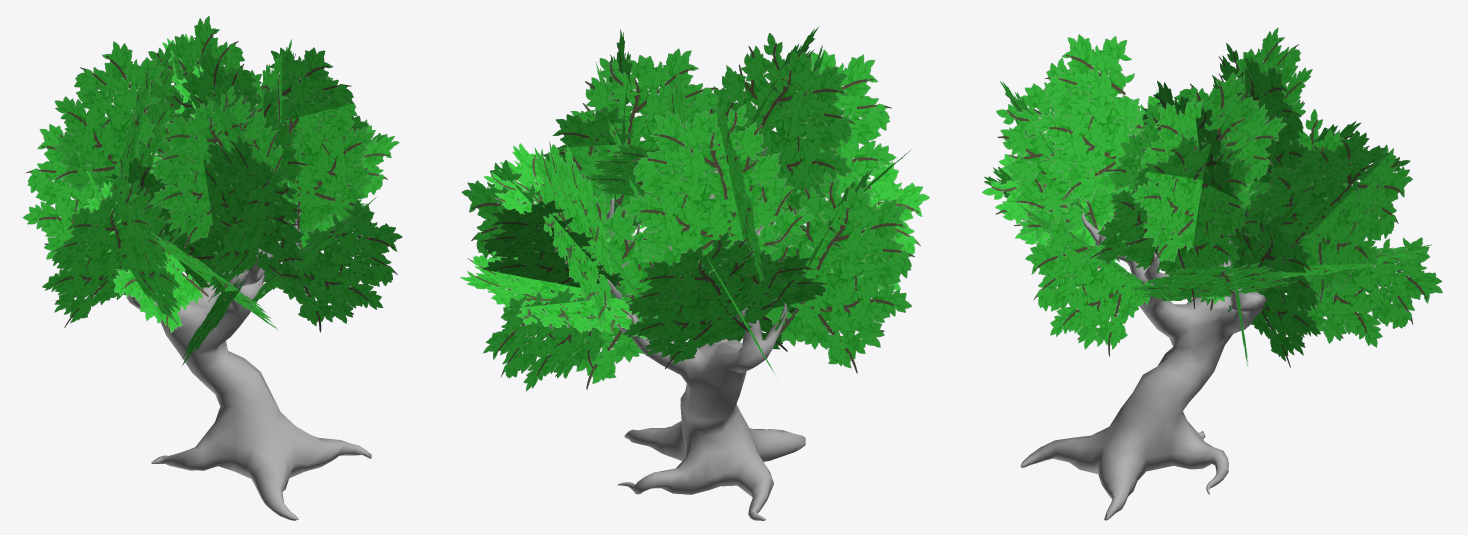
Rendered from trytree01.fbx.
3 renders of one model, left to right at view 1: azimuth 30°, elevation 25°; view 2: azimuth 150°, elevation 25°; view 3: azimuth 270°, elevation 25°, orthographic. The views are drawn at different scales.
Parts seen in each view (by area): view 1: Environment_Tree_001_Trunk_Mesh, Environment_Tree_001_Branch_010, Environment_Tree_001_Branch_005, Environment_Tree_001_Branch_006, Environment_Tree_001_Branch_002, Environment_Tree_001_Branch_007, Environment_Tree_001_Branch_015, Environment_Tree_001_Branch_012, Environment_Tree_001_Branch_013, Environment_Tree_001_Branch_014, Environment_Tree_001_Branch_011, Environment_Tree_001_Branch_009 (+2 smaller); view 2: Environment_Tree_001_Branch_010, Environment_Tree_001_Branch_005, Environment_Tree_001_Trunk_Mesh, Environment_Tree_001_Branch_007, Environment_Tree_001_Branch_011, Environment_Tree_001_Branch_009, Environment_Tree_001_Branch_004, Environment_Tree_001_Branch_014, Environment_Tree_001_Branch_006, Environment_Tree_001_Branch_008, Environment_Tree_001_Branch_003, Environment_Tree_001_Branch_015 (+3 smaller); view 3: Environment_Tree_001_Trunk_Mesh, Environment_Tree_001_Branch_009, Environment_Tree_001_Branch_007, Environment_Tree_001_Branch_015, Environment_Tree_001_Branch_002, Environment_Tree_001_Branch_014, Environment_Tree_001_Branch_004, Environment_Tree_001_Branch_006, Environment_Tree_001_Branch_013, Environment_Tree_001_Branch_008, Environment_Tree_001_Branch_010, Environment_Tree_001_Branch_003 (+3 smaller).
Boxes of the visible parts, x1,y1,x2,y2 form: Environment_Tree_001_Trunk_Mesh: (126,212,371,520); Environment_Tree_001_Branch_010: (54,40,174,200); Environment_Tree_001_Branch_005: (42,179,182,327); Environment_Tree_001_Branch_006: (200,135,307,302); Environment_Tree_001_Branch_002: (237,197,402,332); Environment_Tree_001_Branch_007: (148,85,296,248); Environment_Tree_001_Branch_015: (252,74,374,235); Environment_Tree_001_Branch_012: (84,157,235,338); Environment_Tree_001_Branch_013: (165,47,307,196); Environment_Tree_001_Branch_014: (252,39,368,187); Environment_Tree_001_Branch_011: (22,122,119,271); Environment_Tree_001_Branch_009: (145,16,261,170); Environment_Tree_001_Branch_010: (622,104,813,282); Environment_Tree_001_Branch_005: (765,170,914,373); Environment_Tree_001_Trunk_Mesh: (606,170,805,520); Environment_Tree_001_Branch_007: (710,27,854,213); Environment_Tree_001_Branch_011: (622,232,805,373); Environment_Tree_001_Branch_009: (481,141,623,328); Environment_Tree_001_Branch_004: (460,250,646,391); Environment_Tree_001_Branch_014: (560,29,722,219); Environment_Tree_001_Branch_006: (774,45,896,222); Environment_Tree_001_Branch_008: (530,192,671,389); Environment_Tree_001_Branch_003: (461,143,648,302); Environment_Tree_001_Branch_015: (534,62,664,232); Environment_Tree_001_Trunk_Mesh: (1020,190,1299,520); Environment_Tree_001_Branch_009: (1244,130,1412,302); Environment_Tree_001_Branch_007: (1032,34,1143,202); Environment_Tree_001_Branch_015: (1089,136,1250,308); Environment_Tree_001_Branch_002: (1017,204,1173,356); Environment_Tree_001_Branch_014: (1131,81,1249,264); Environment_Tree_001_Branch_004: (1271,237,1442,347); Environment_Tree_001_Branch_006: (996,58,1143,241); Environment_Tree_001_Branch_013: (1102,72,1287,222); Environment_Tree_001_Branch_008: (1222,198,1320,367); Environment_Tree_001_Branch_010: (1212,27,1312,189); Environment_Tree_001_Branch_003: (1131,258,1298,366).
Bounding box in the file's own units: 1085 × 1075 × 1105.
Materials: 2 (1 with a texture image).
